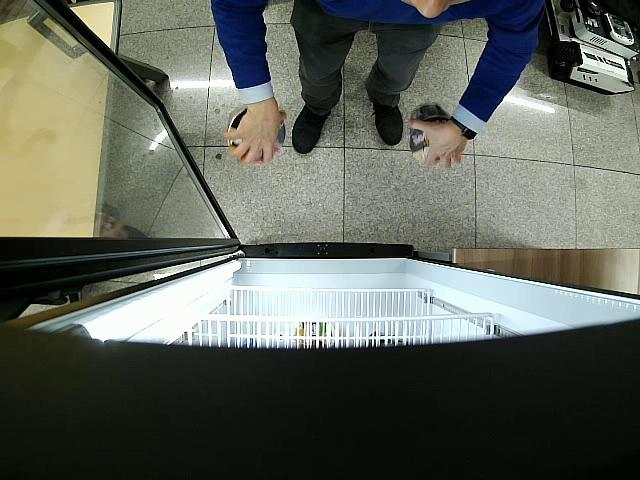00_hand: (224, 105, 287, 164), (408, 122, 465, 169)
07_buldak_L: (228, 108, 285, 160), (409, 103, 451, 164)
